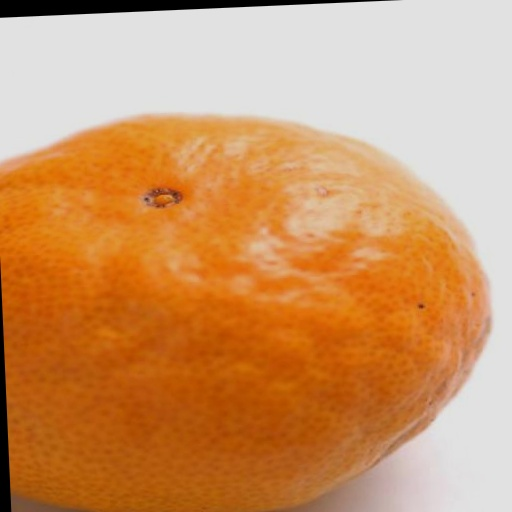fruit: (0, 116, 489, 512)
